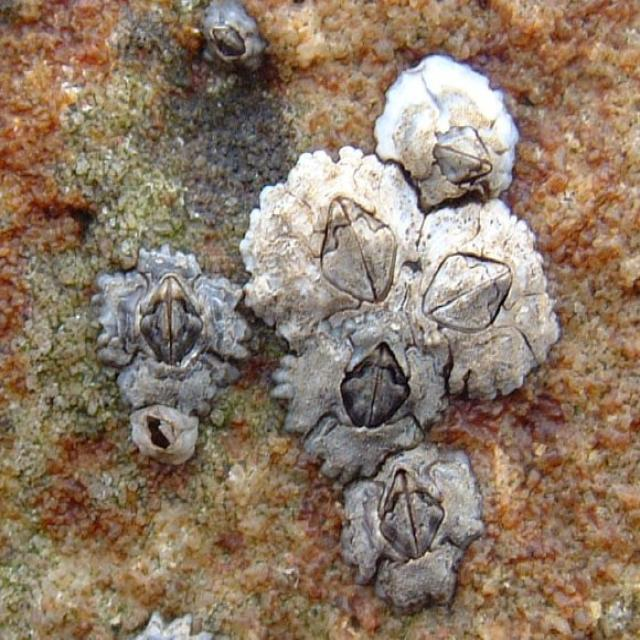barnacles: (244, 155, 412, 321), (316, 451, 492, 593), (415, 225, 560, 392), (284, 320, 450, 459), (102, 238, 249, 394), (386, 62, 522, 206), (195, 9, 268, 83)
